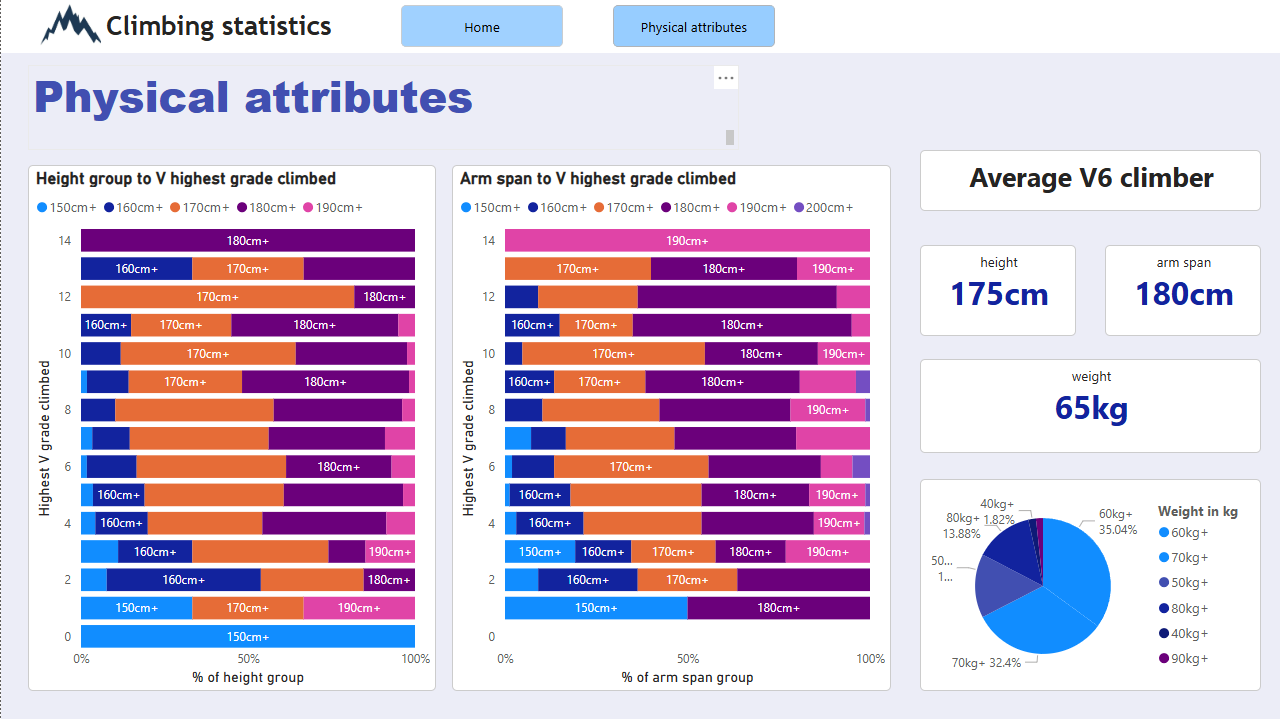

What the dashboard file says about the page in this screenshot:
{"tool":"powerbi","page":{"name":"Physical attributes","canvas":[1280,720],"ordinal":1},"visuals":[{"type":"hundredPercentStackedBarChart","title":"Height group to V highest grade climbed","fields":{"Category":["Climbharder #V3 (Responses) - Form responses 1.Hardest V Grade ever climbed "],"Y":["Divide(CountNonNull(Climbharder #V3 (Responses) - Form responses 1.Height (cm) (groups)), ScopedEval(CountNonNull(Climbh"],"Series":["Climbharder #V3 (Responses) - Form responses 1.Height (cm) (groups)"]},"box":[26.6,166,408.1,525.9],"z":0},{"type":"shape","box":[0,0,1280,54.3],"z":1000},{"type":"pageNavigator","box":[400,6.2,373.8,41.2],"z":2000},{"type":"image","box":[26.2,0,90,53.8],"z":3000},{"type":"textbox","box":[100,6.2,300,47.5],"z":4000},{"type":"textbox","title":"Physical attributes","box":[26.6,65.9,711,84.9],"z":5000},{"type":"hundredPercentStackedBarChart","title":"Arm span to V highest grade climbed","fields":{"Category":["Climbharder #V3 (Responses) - Form responses 1.Hardest V Grade ever climbed "],"Y":["Divide(CountNonNull(Climbharder #V3 (Responses) - Form responses 1.Height (cm) (groups)), ScopedEval(CountNonNull(Climbh"],"Series":["Climbharder #V3 (Responses) - Form responses 1.Arm Span (cm) (groups)"]},"box":[451.2,166,438.5,525.9],"z":6000},{"type":"pieChart","fields":{"Y":["CountNonNull(Climbharder #V3 (Responses) - Form responses 1.Weight (KG) (groups))"],"Category":["Climbharder #V3 (Responses) - Form responses 1.Weight (KG) (groups)"]},"box":[918.8,480.3,340.9,211.6],"z":7000},{"type":"textbox","box":[918.8,150.8,340.9,60.8],"z":8000},{"type":"textbox","box":[1103.8,245.9,155.9,91.2],"z":9000},{"type":"textbox","box":[918.8,245.9,155.9,91.2],"z":10000},{"type":"textbox","box":[918.8,359.9,340.9,93.8],"z":11000}]}

Visuals, with their boxes in screenshot pixels (x1, y1, x2, y2), scaled from the page's 1280x720 canvas onto the 1280x719 screenshot:
"Height group to V highest grade climbed" hundredPercentStackedBarChart: 27,166,435,691
shape: 0,0,1279,54
pageNavigator: 400,6,774,47
image: 26,0,116,54
textbox: 100,6,400,54
"Physical attributes" textbox: 27,66,738,151
"Arm span to V highest grade climbed" hundredPercentStackedBarChart: 451,166,890,691
pieChart - CountNonNull(Climbharder #V3 (Responses) - Form responses 1.Weight (KG) (groups)) x Climbharder #V3 (Responses) - Form responses 1.Weight (KG) (groups): 919,480,1260,691
textbox: 919,151,1260,211
textbox: 1104,246,1260,337
textbox: 919,246,1075,337
textbox: 919,359,1260,453
